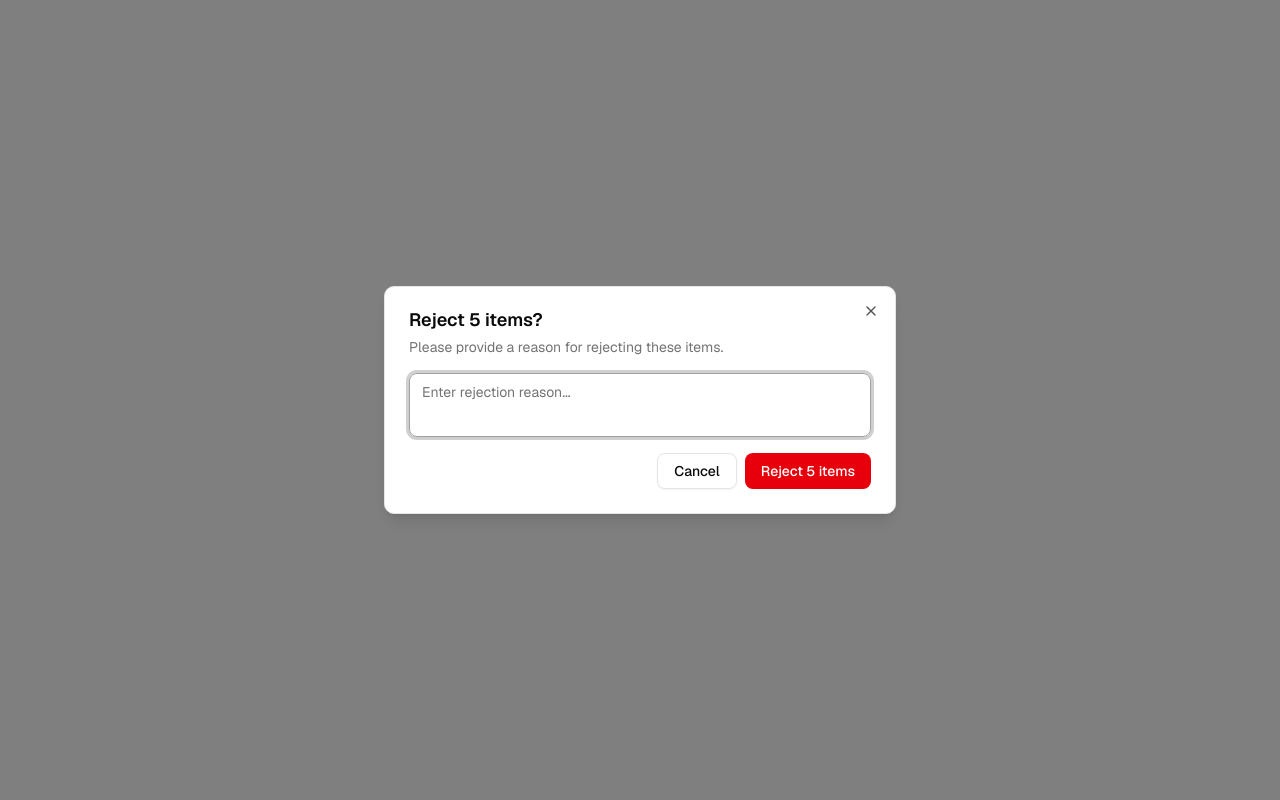
Test: RejectReasonDialog › should clear error when typing after error
Type "Test" into the text box with placeholder "Enter rejection reason..." at [640, 405], box 409,373 -> 871,437
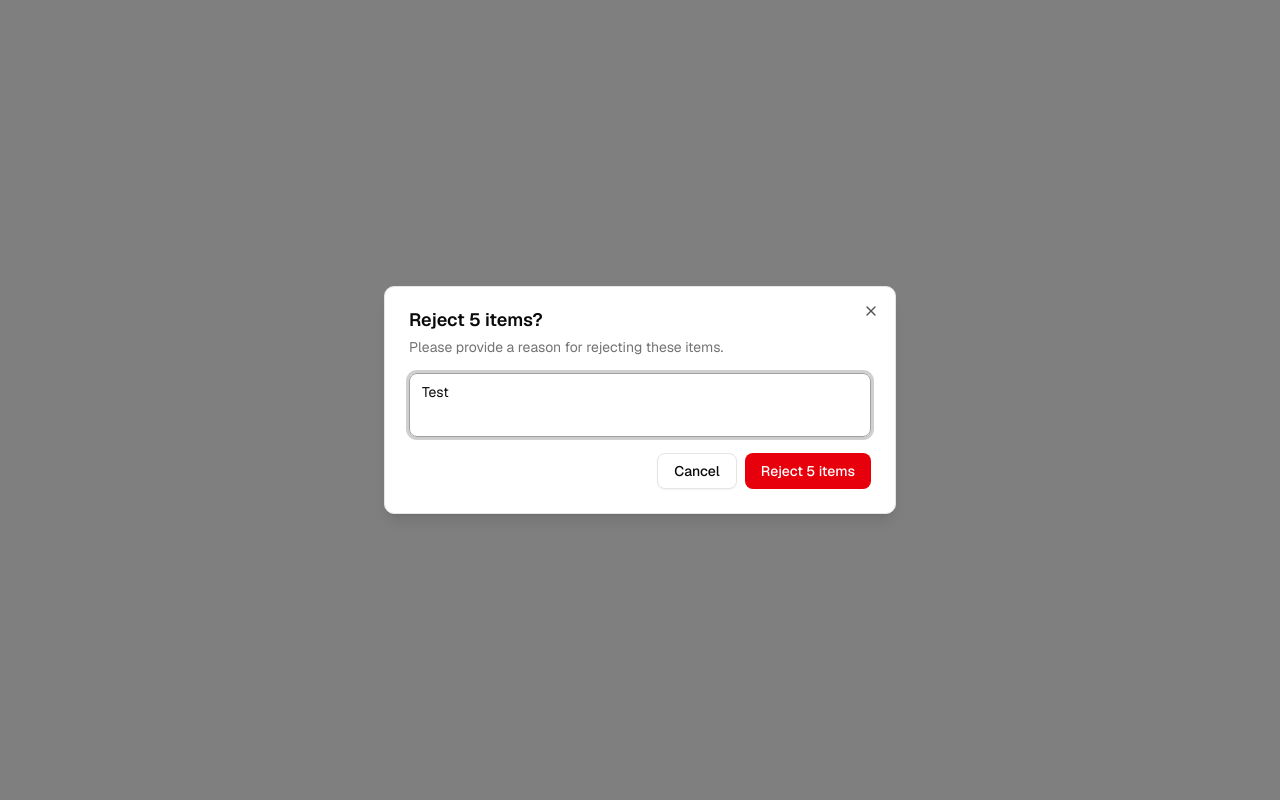
Click the button "Reject 5 items" at [808, 471], box 745,453 -> 871,489
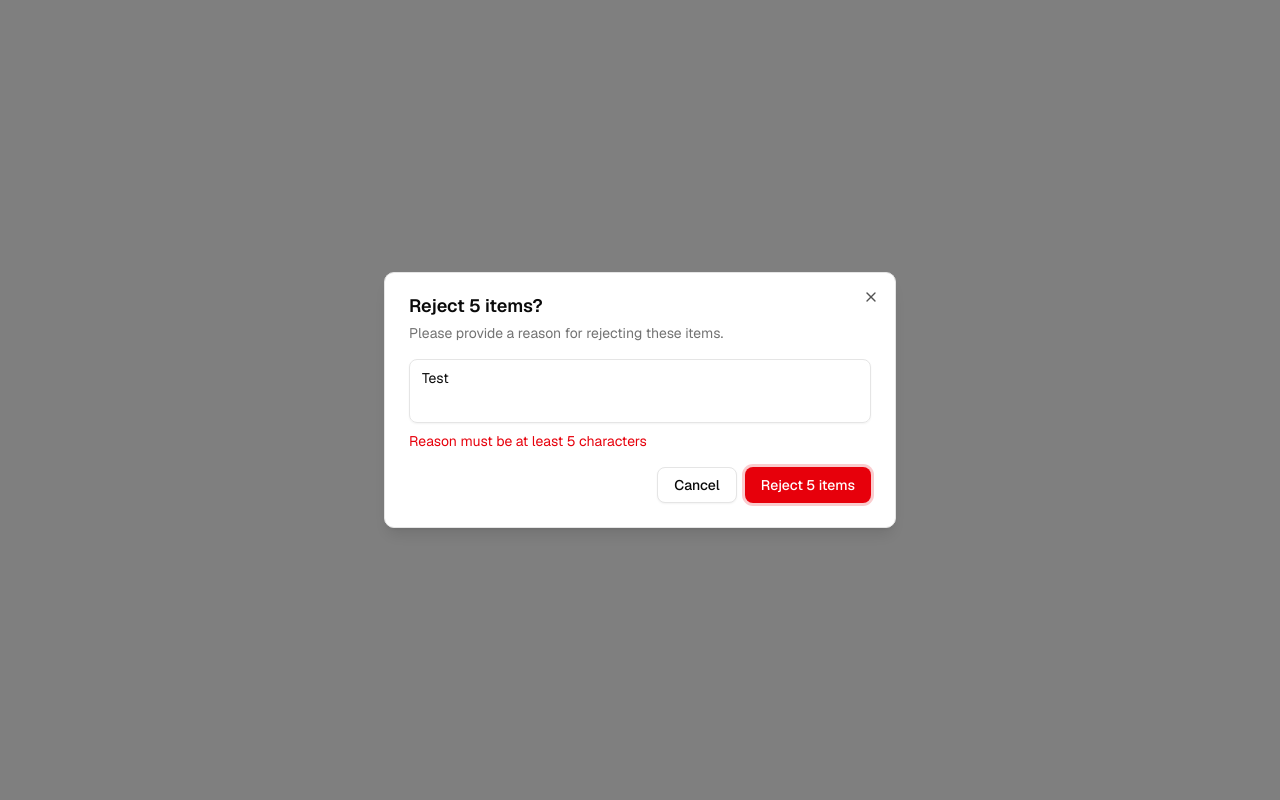
Now the text "Reason must be at least 5 characters" is shown, box 409,432 -> 647,450
Type " more text" into the text box with placeholder "Enter rejection reason..." at [640, 391], box 409,359 -> 871,423
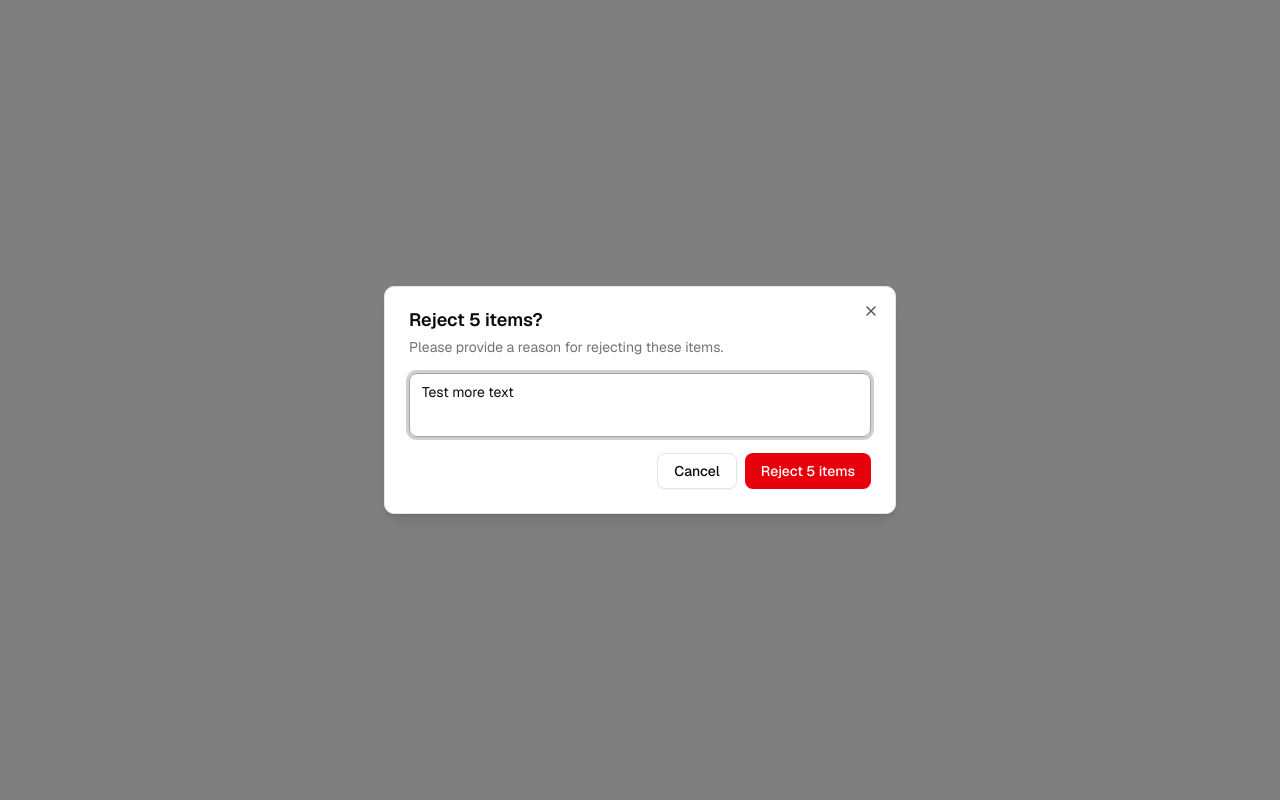
Now the text "Reason must be at least 5 characters" is gone
